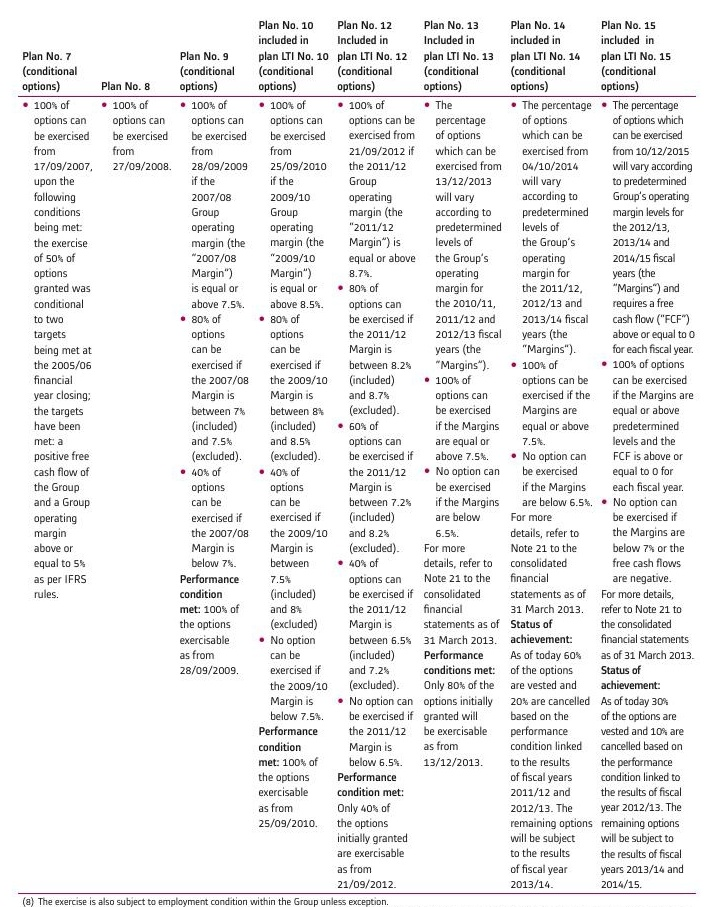table: (0, 0, 722, 907)
